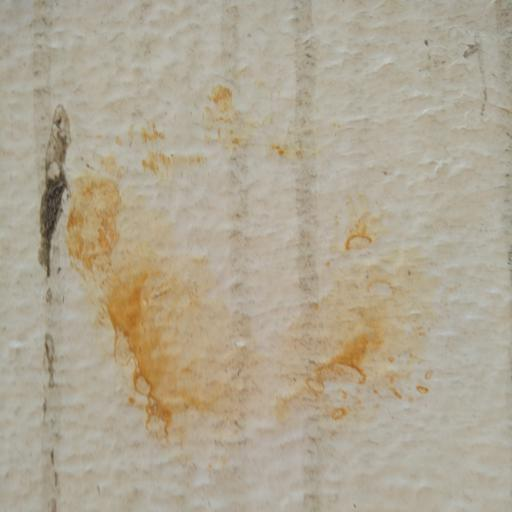stain: (29, 101, 461, 478)
